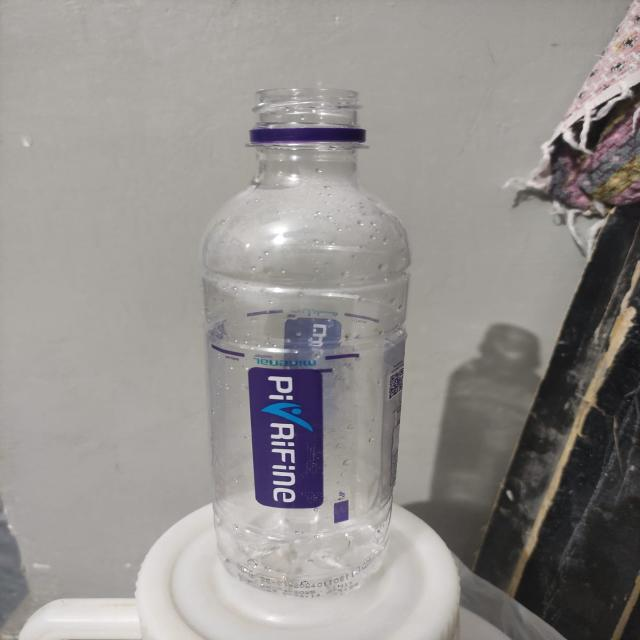bottle: (202, 62, 416, 606)
label: (200, 314, 408, 538)
